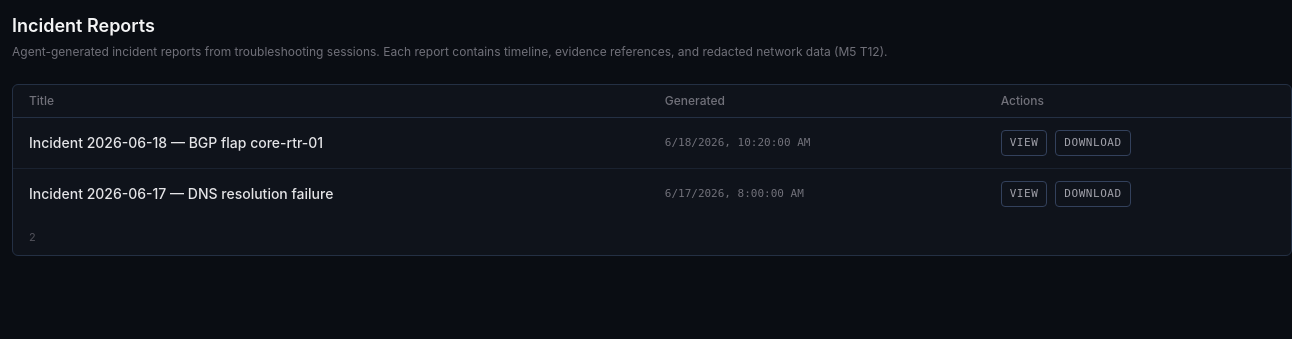
Test: IncidentReportsPage — download › shows download-error alert when the API fails
Click the button "Download" in the row of "6/18/2026, 10:20:00 AM": (1093, 143) [1055, 130, 1131, 156]
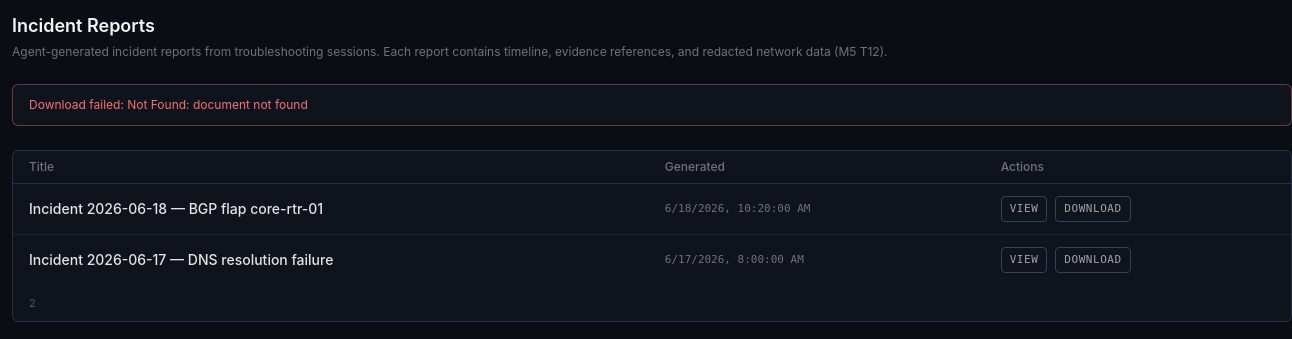
Check: the message "Download failed: Not Found: document not found" is shown, box [12, 84, 1291, 126]
